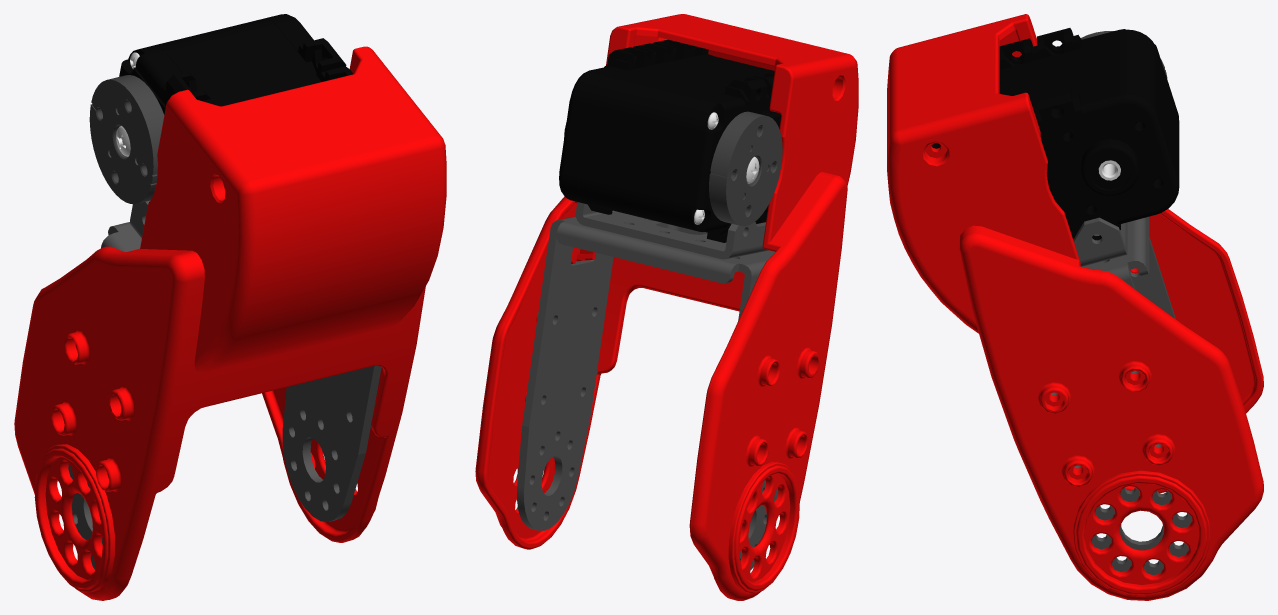
The model's file is shin-left.obj.
The picture shows the model from 3 angles, left to right: view 1: azimuth 30°, elevation 25°; view 2: azimuth 150°, elevation 25°; view 3: azimuth 270°, elevation 25°; orthographic projection. The views are drawn at different scales.
Parts seen in each view (by area): view 1: 49er_Jimmy_110714_12, ASSY_DUMMY___, Solid1, DC04_B01_HORN2_DUMMY; view 2: 49er_Jimmy_110714_12, ASSY_DUMMY___, Solid1, DC04_B01_HORN2_DUMMY; view 3: 49er_Jimmy_110714_12, ASSY_DUMMY___, Solid1.
Boxes of the visible parts, left/top/right/bottom form: 49er_Jimmy_110714_12: left=14, top=46, right=446, bottom=600; ASSY_DUMMY___: left=119, top=14, right=353, bottom=202; Solid1: left=68, top=200, right=381, bottom=569; DC04_B01_HORN2_DUMMY: left=89, top=75, right=164, bottom=204; 49er_Jimmy_110714_12: left=475, top=14, right=858, bottom=600; ASSY_DUMMY___: left=559, top=39, right=781, bottom=242; Solid1: left=517, top=202, right=778, bottom=570; DC04_B01_HORN2_DUMMY: left=709, top=111, right=782, bottom=226; 49er_Jimmy_110714_12: left=887, top=14, right=1263, bottom=600; ASSY_DUMMY___: left=931, top=28, right=1179, bottom=240; Solid1: left=1051, top=216, right=1192, bottom=575.
Bounding box in the file's own units: 2.2 × 4.06 × 2.82.
